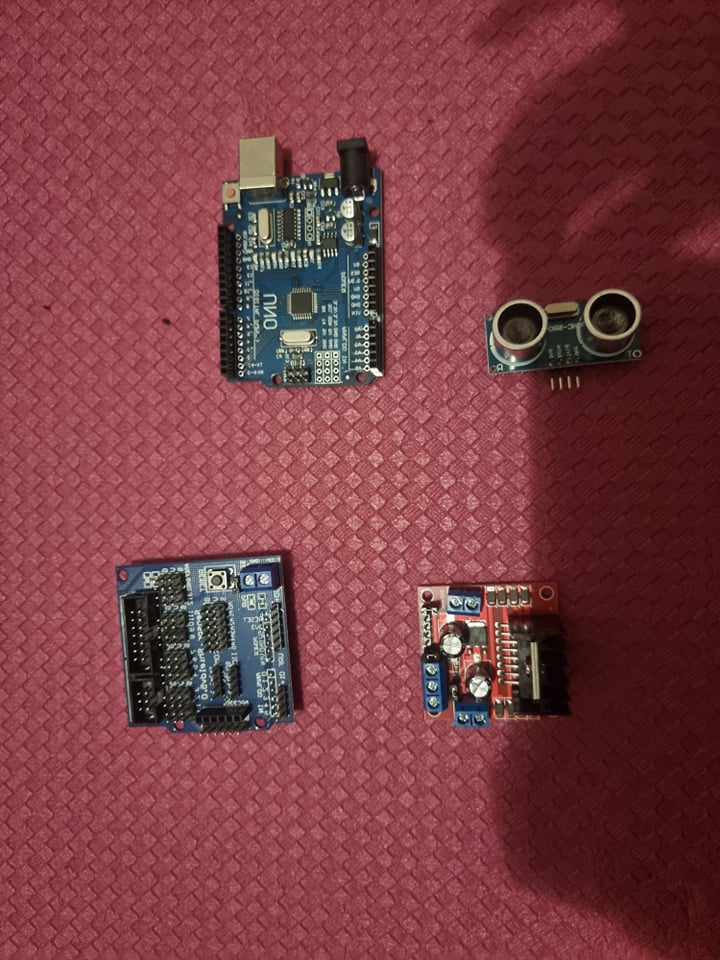5V EXPANSION: (119, 549, 300, 735)
MOTOR: (422, 585, 571, 728)
SENSOR: (483, 287, 648, 376)
UNO R3: (213, 135, 387, 391)
